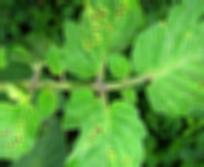Tomato leaf bacterial spot: (125, 0, 204, 118), (57, 0, 154, 81), (57, 86, 153, 167), (0, 95, 40, 163)
